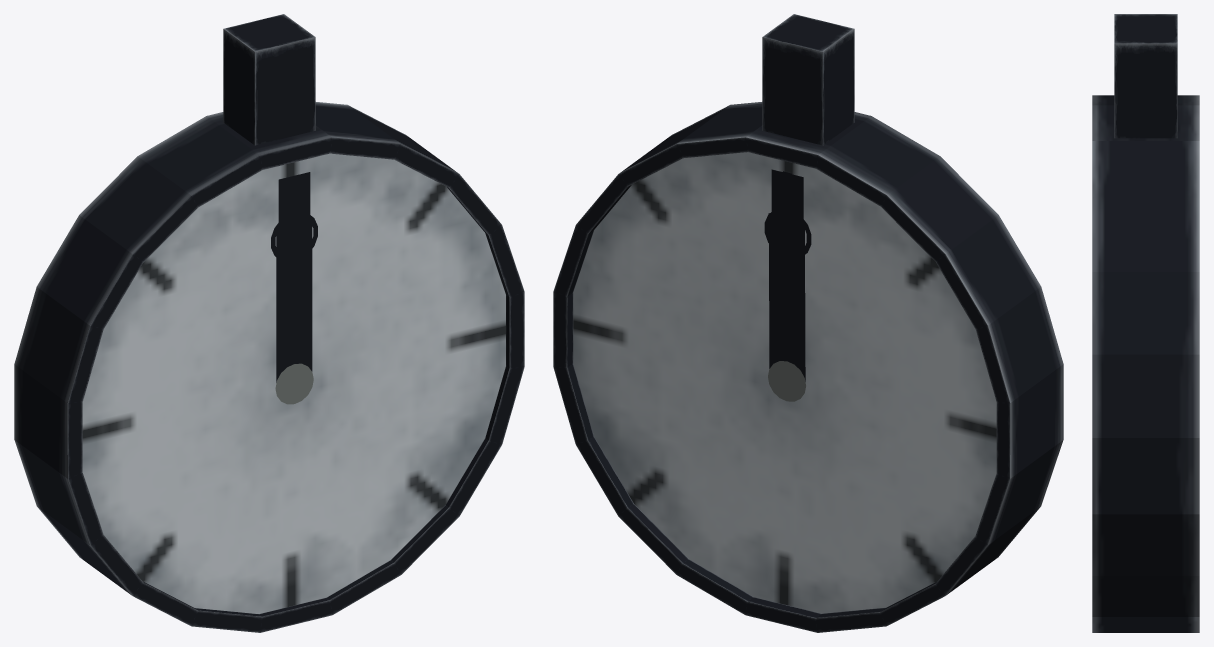
The model's file is ClockForLeon.fbx.
The picture shows the model from 3 angles, left to right: view 1: azimuth 30°, elevation 25°; view 2: azimuth 150°, elevation 25°; view 3: azimuth 270°, elevation 25°; orthographic projection.
Parts seen in each view (by area): view 1: Cylinder, Plane.001, Plane.002, Circle, Plane; view 2: Cylinder, Plane.004, Plane.003, Circle.001; view 3: Cylinder.
Boxes of the visible parts, left/top/right/bottom form: Cylinder: left=14, top=14, right=524, bottom=632; Plane.001: left=276, top=219, right=312, bottom=382; Plane.002: left=271, top=175, right=317, bottom=365; Circle: left=275, top=363, right=313, bottom=404; Plane: left=278, top=172, right=310, bottom=224; Cylinder: left=553, top=14, right=1063, bottom=632; Plane.004: left=768, top=213, right=805, bottom=381; Plane.003: left=771, top=169, right=803, bottom=220; Circle.001: left=768, top=361, right=805, bottom=401; Cylinder: left=1092, top=14, right=1199, bottom=632.
Bounding box in the file's own units: 49.39 × 59.07 × 10.
